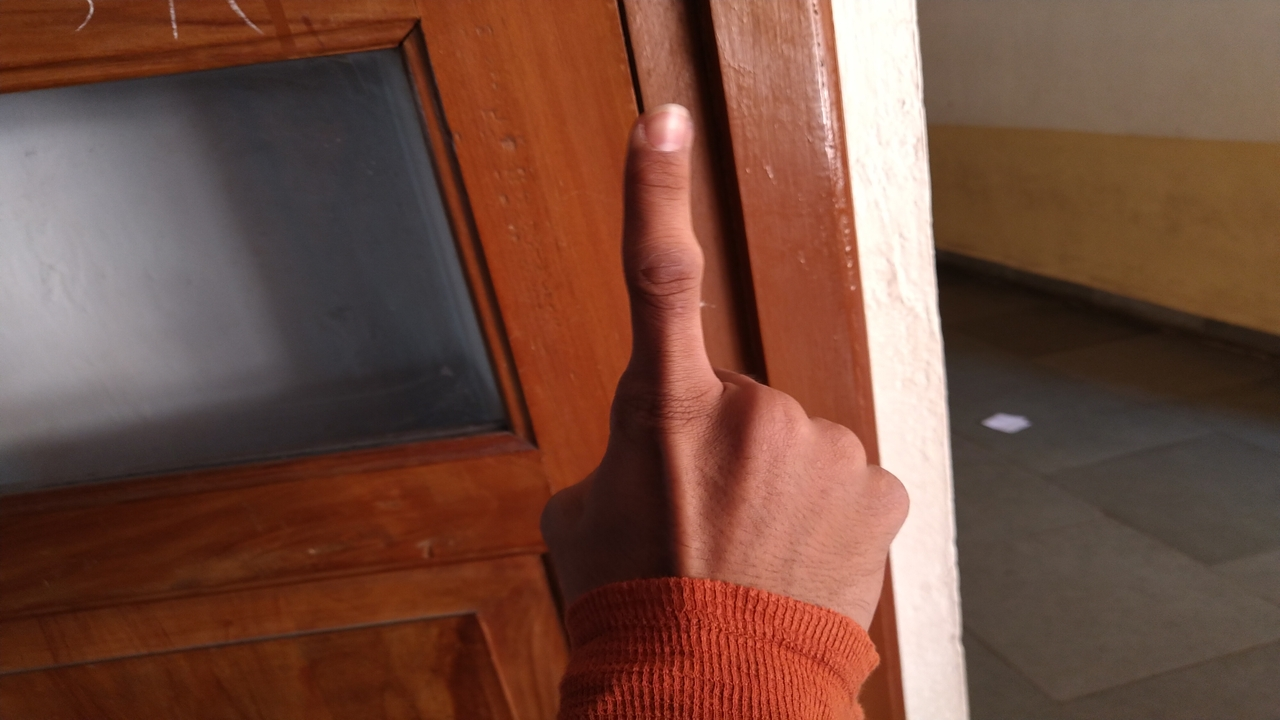fingertip: (626, 100, 702, 168)
